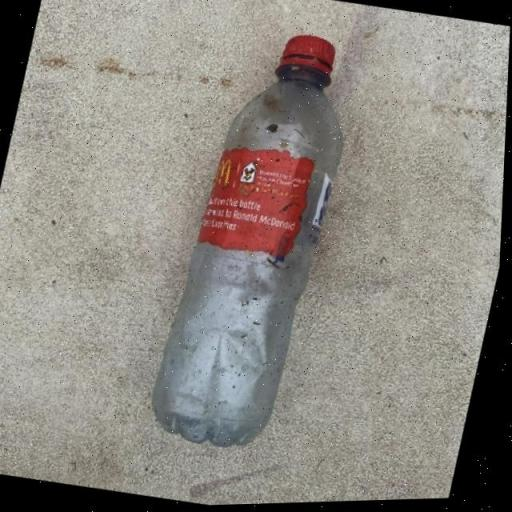plastic: (146, 21, 367, 460)
